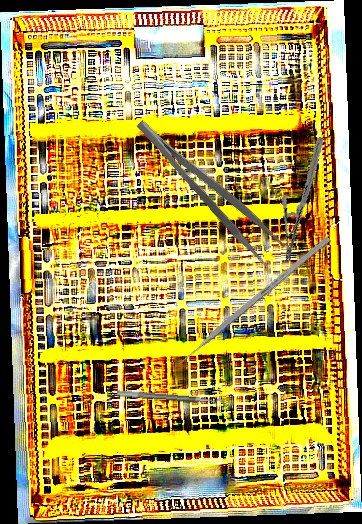Dressing Forceps: (132, 105, 288, 269)
Fixation Ring: (115, 389, 228, 415)
Needle Holder: (257, 136, 351, 264)
Pusher: (168, 235, 332, 374)
